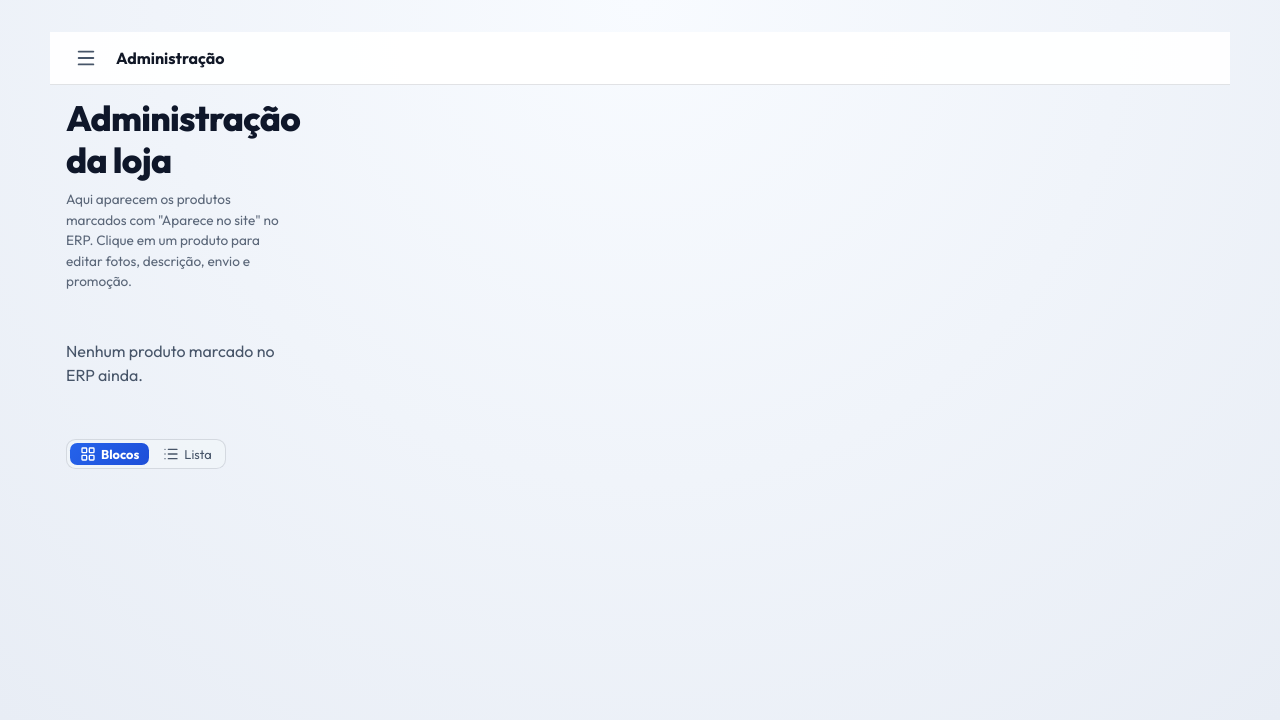
Test case: AdminLayout e AdminMenu › UT-340 gaveta com as onze seções em ordem (a atual com aria-current), Tema, Voltar à loja e Sair
Check: the heading "Administração da loja" is shown, box 66,97 -> 286,182
Click the button named "Abrir menu": (86, 58) 66,38 -> 106,78
(page scrolled)
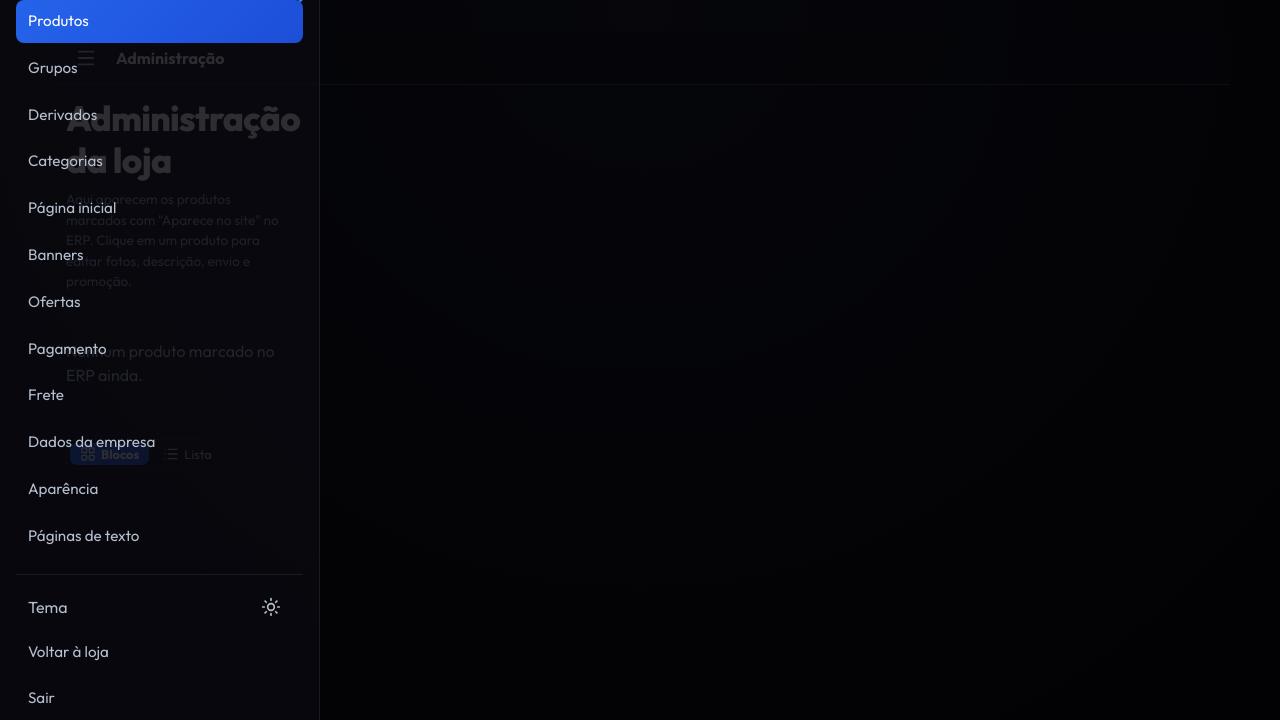
Check: the text "Tema" is shown, box 28,595 -> 68,619
Check: the button "Sair" is shown, box 16,677 -> 303,719
Check: the navigation bar named "Administração" is shown, box 16,0 -> 303,719
